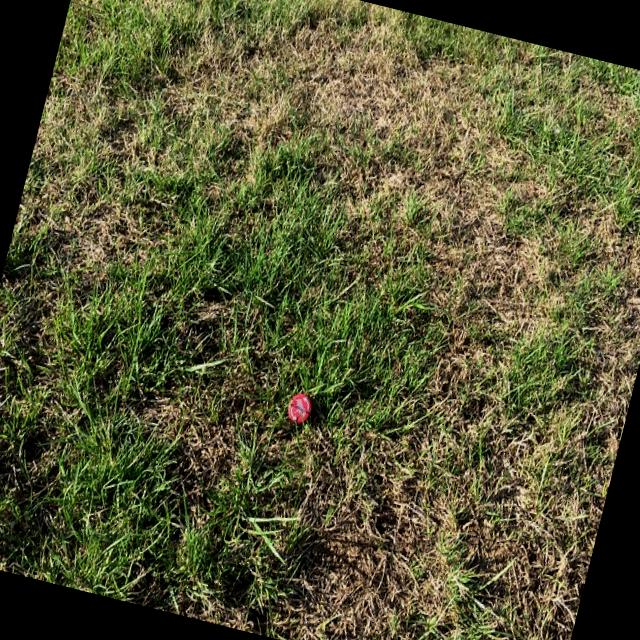Trash: (282, 392, 314, 426)
